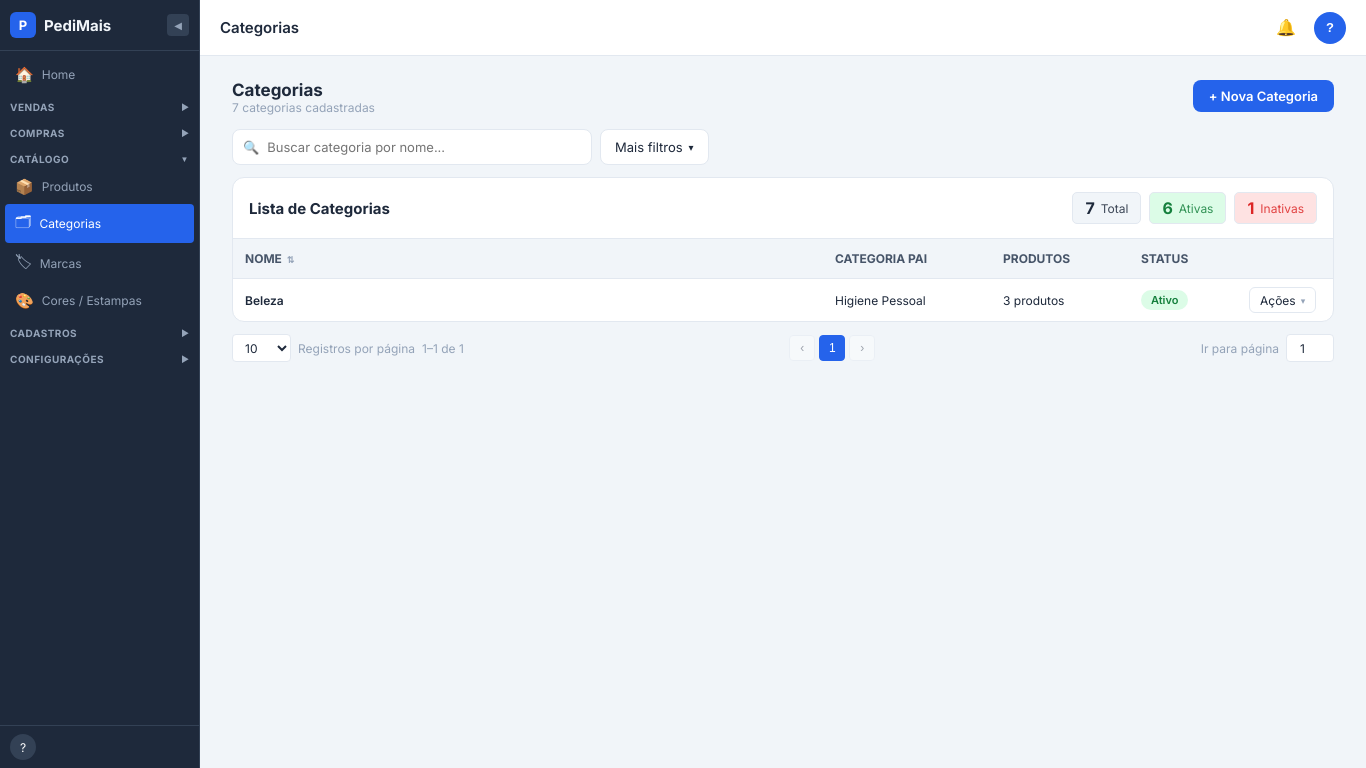
Test case: CategoriesListView › shows the backend message when deletion is blocked because the category has subcategories
Click the element with test id "btn-acoes" at x=1283, y=300, box [1249,287,1316,313]
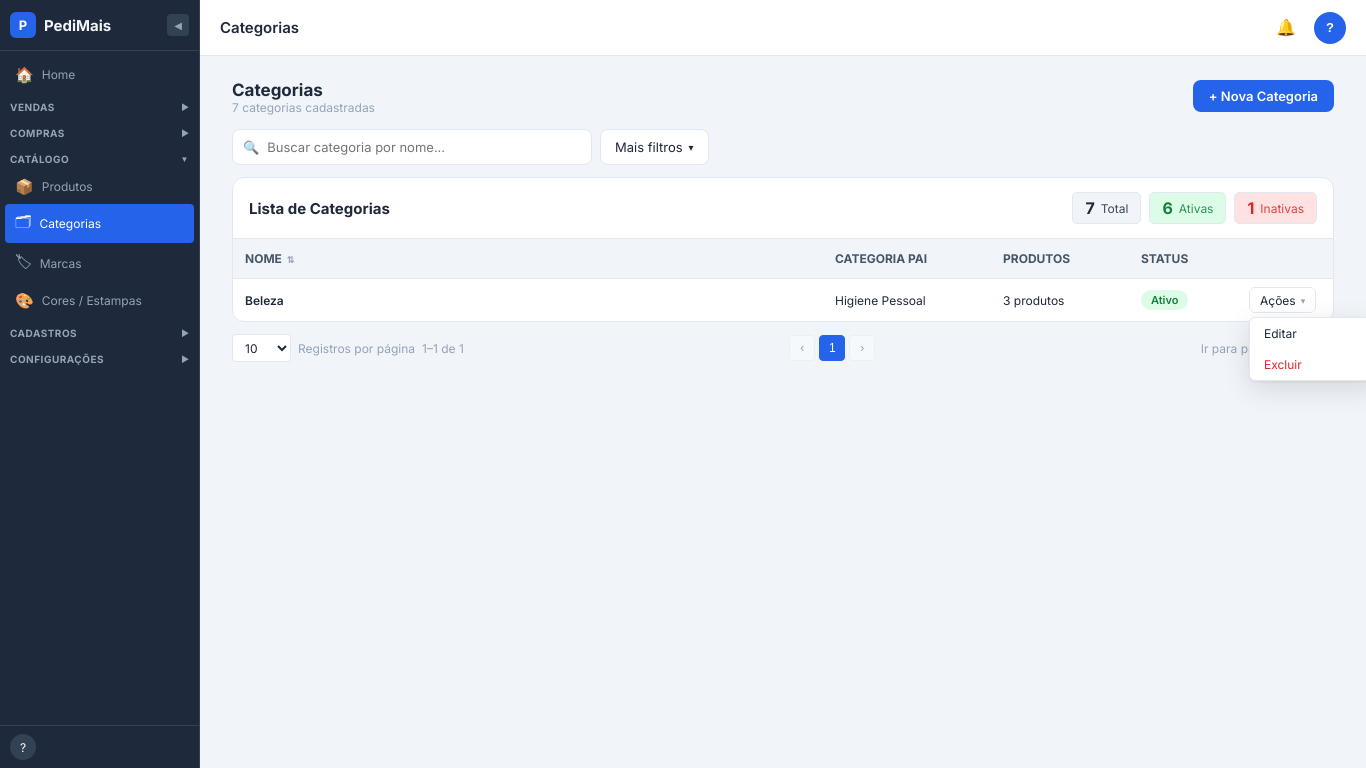
Click the text with test id "acao-excluir" at x=1283, y=364, box [1264,357,1302,372]
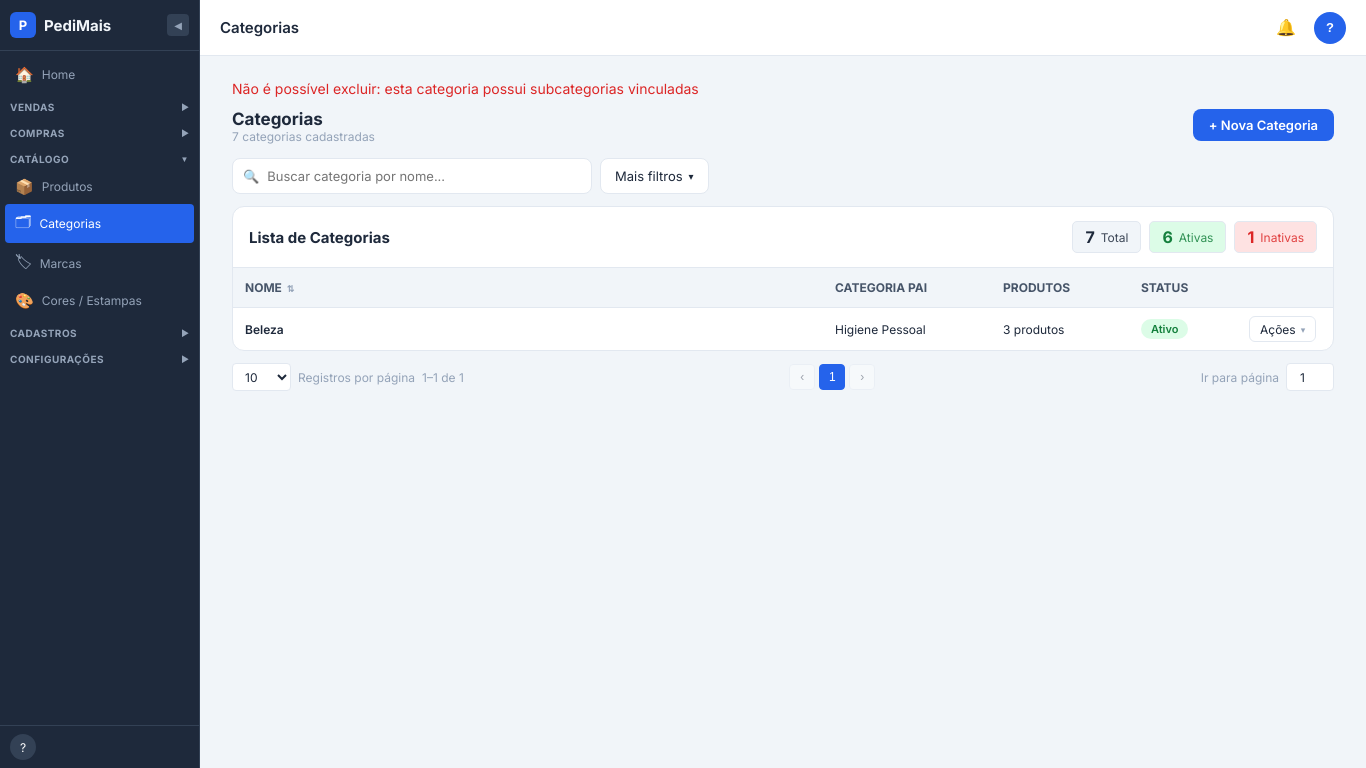
Expected: the text "Não é possível excluir: esta categoria possui subcategorias vinculadas" is shown, [232,80,699,97]
